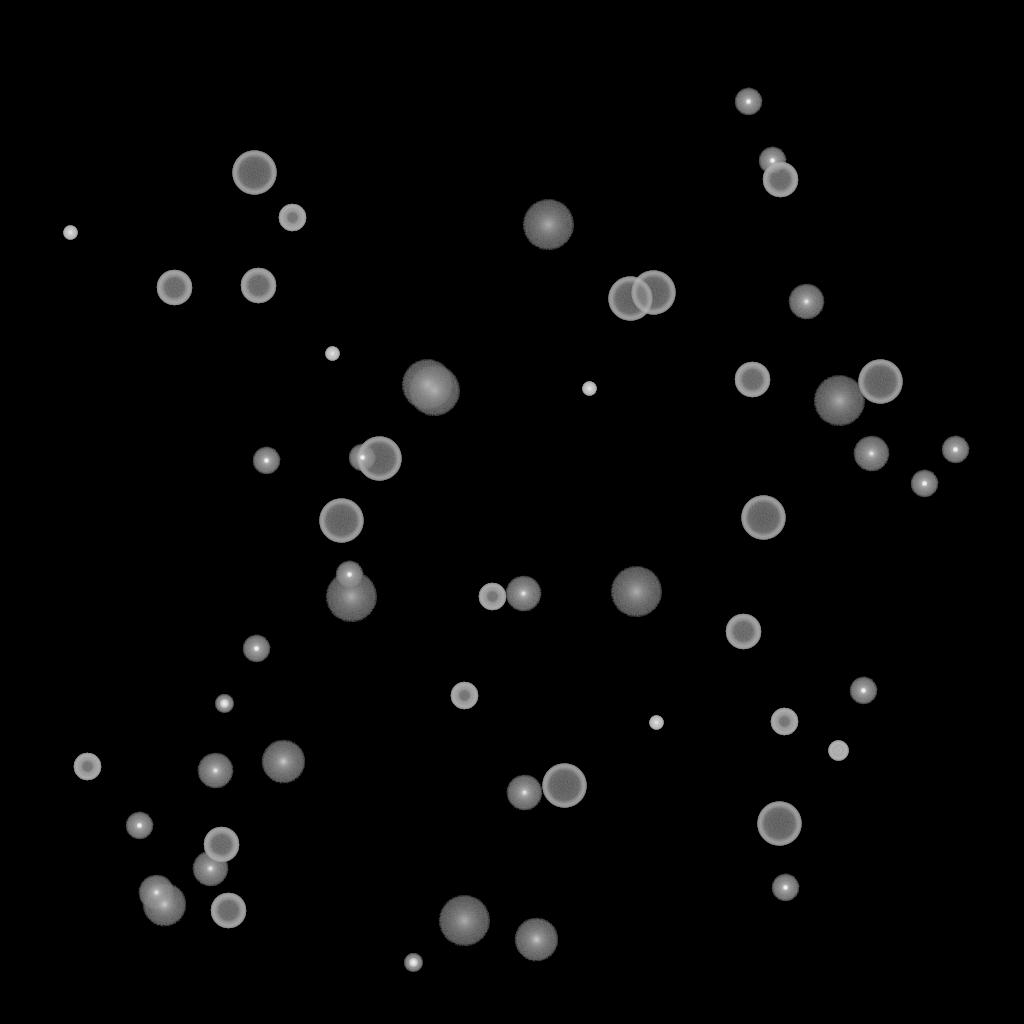depth:-10: (941, 436, 969, 464), (348, 444, 376, 472), (910, 470, 938, 498), (252, 447, 280, 475), (242, 635, 270, 663), (125, 812, 153, 840), (734, 88, 762, 116), (771, 874, 799, 902), (758, 147, 786, 175), (335, 561, 363, 589), (849, 677, 877, 705)
depth:-20: (215, 695, 233, 713), (404, 954, 422, 972)
depth:-30: (63, 226, 77, 240), (582, 382, 596, 396), (649, 716, 663, 730), (325, 347, 339, 361)
depth:-40: (828, 741, 848, 761)
depth:-50: (478, 583, 506, 611), (770, 708, 798, 736), (278, 204, 306, 232), (73, 753, 101, 781), (450, 682, 478, 710)
depth:-60: (203, 827, 239, 863), (210, 893, 246, 929), (762, 162, 798, 198), (725, 614, 761, 650), (734, 362, 770, 398), (156, 270, 192, 306), (240, 268, 276, 304)
depth:-70: (319, 499, 363, 543), (631, 271, 675, 315), (608, 277, 652, 321), (757, 802, 801, 846), (741, 496, 785, 540), (357, 437, 401, 481), (232, 151, 276, 195), (858, 360, 902, 404), (542, 764, 586, 808)
depth:0: (192, 851, 228, 887), (138, 875, 174, 911), (505, 576, 541, 612), (788, 284, 824, 320), (197, 753, 233, 789), (853, 436, 889, 472), (506, 775, 542, 811)
depth:10: (142, 883, 186, 927), (514, 918, 558, 962), (261, 740, 305, 784)
depth:20: (522, 200, 574, 250), (325, 572, 377, 622), (438, 896, 490, 946), (401, 360, 453, 410), (813, 376, 865, 426), (610, 567, 662, 617), (408, 366, 460, 416)
